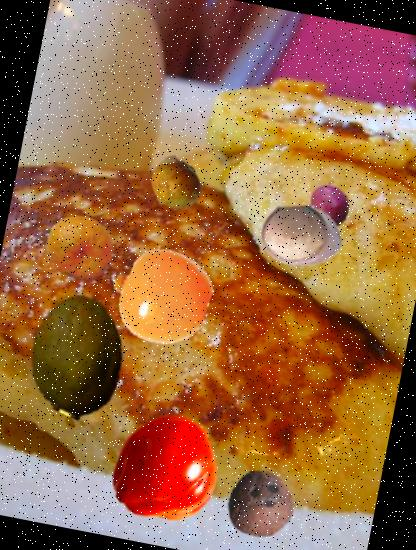Cocos: (219, 463, 301, 545)
Hazelnut: (250, 186, 352, 286)
Mandarine: (39, 207, 120, 288)
Onion: (143, 152, 207, 216), (296, 180, 358, 242)
Papaya: (9, 286, 149, 426)
Physalis: (100, 236, 218, 354)
Tomato: (100, 406, 230, 536)
